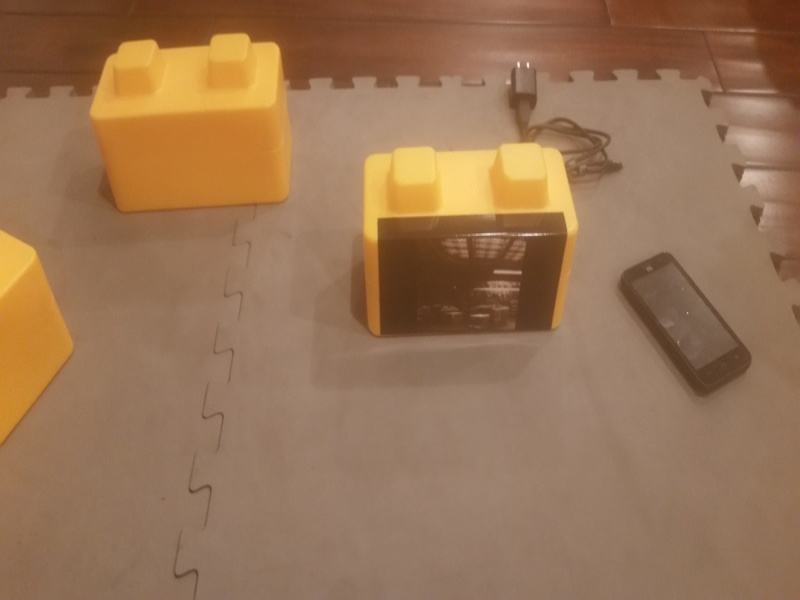Skystone: (347, 138, 582, 350)
Stone: (88, 31, 295, 219), (1, 213, 78, 437)
